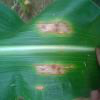Corn leaf blight: (0, 2, 90, 99)
